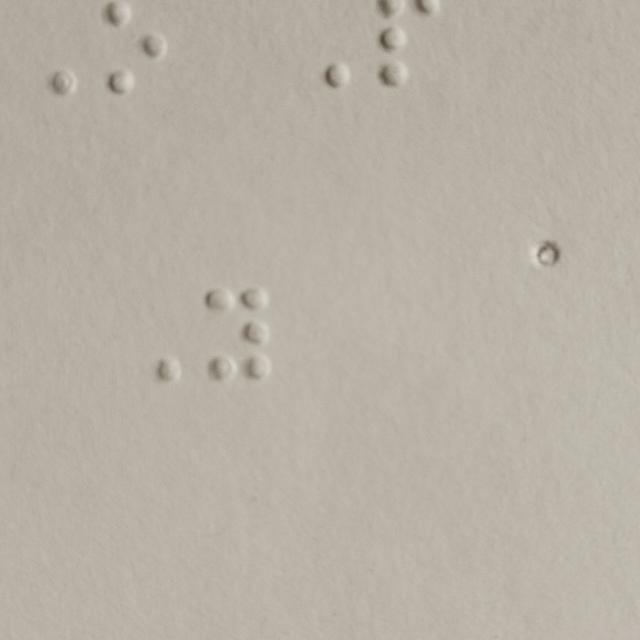O: (105, 0, 168, 94)
P: (376, 0, 444, 94)
Y: (205, 290, 272, 384)
capital: (117, 289, 185, 383), (286, 0, 354, 94), (9, 1, 76, 95)
